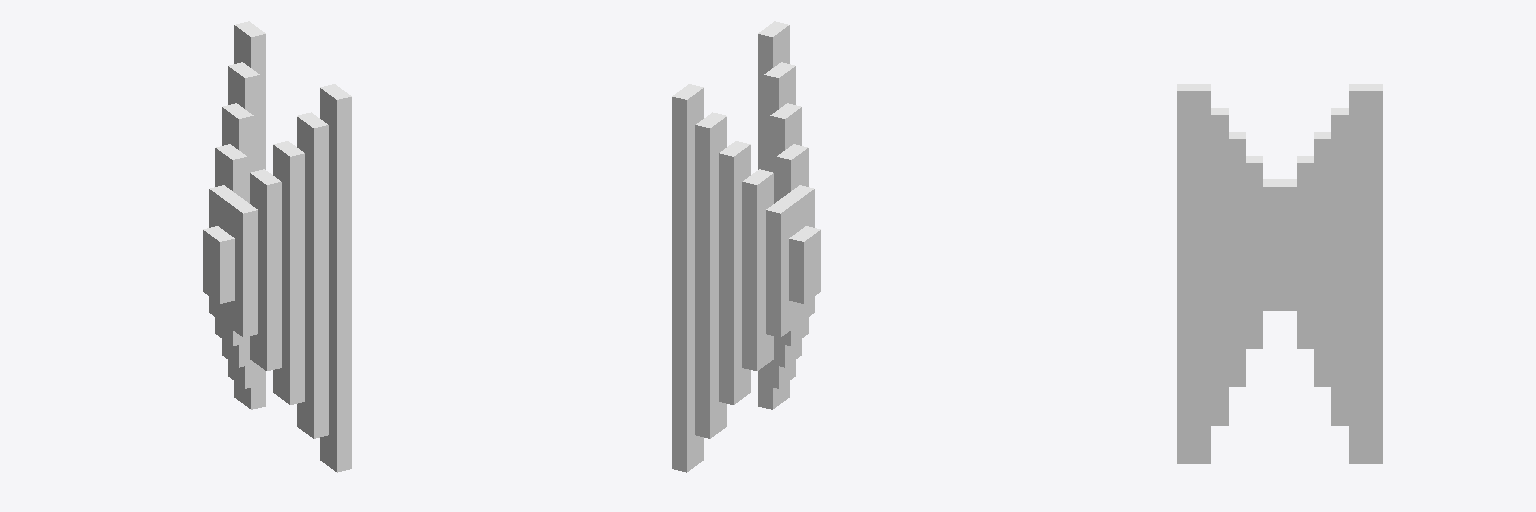
The model's file is WallLight_1.obj.
3 renders of one model, left to right at view 1: azimuth 30°, elevation 25°; view 2: azimuth 150°, elevation 25°; view 3: azimuth 270°, elevation 25°, orthographic.
Bounding box in the file's own units: 6 × 24 × 12.